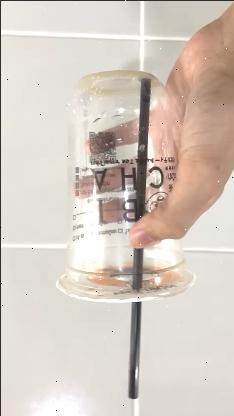Others: (56, 69, 194, 301)
